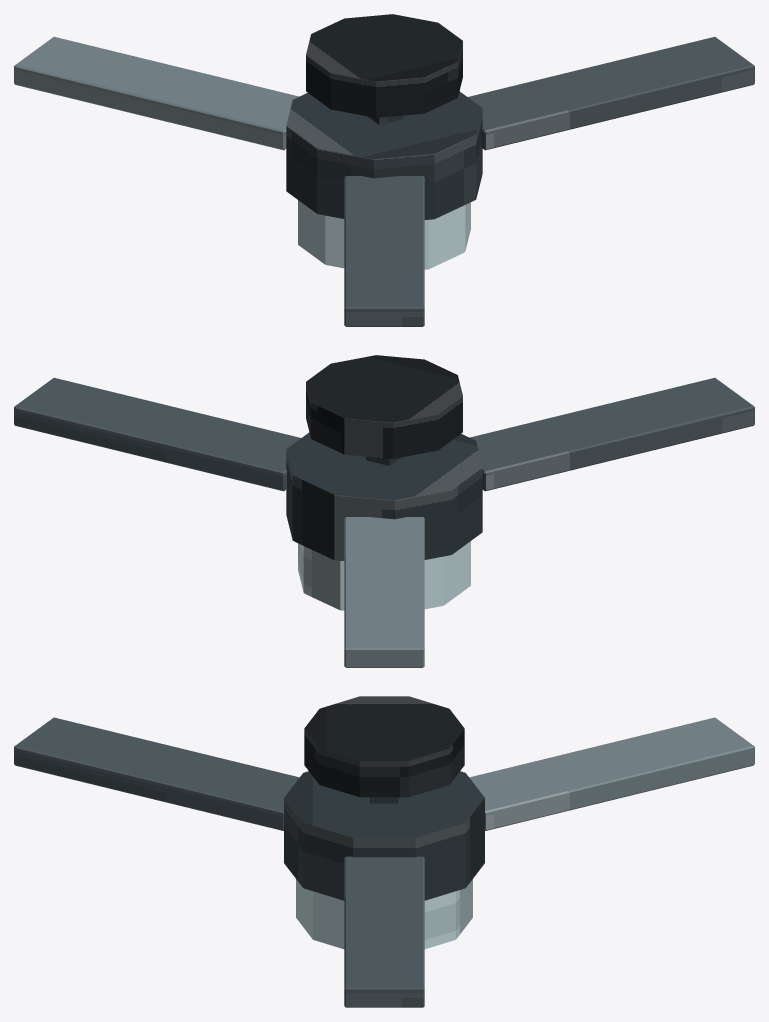
File: ceiling_fan_charcoal.glb
3 renders of one model, top to bottom at view 1: azimuth 30°, elevation 25°; view 2: azimuth 150°, elevation 25°; view 3: azimuth 270°, elevation 25°, orthographic.
Parts seen in each view (by area): view 1: FanMotor, FanBlade_2, FanBlade_1, CeilingCanopy, FanBlade_3, FanLight; view 2: FanMotor, FanBlade_3, FanBlade_1, CeilingCanopy, FanBlade_2, FanLight; view 3: FanMotor, FanBlade_2, FanBlade_3, CeilingCanopy, FanBlade_1, FanLight.
Boxes of the visible parts, left/top/right/bottom form: FanMotor: left=286, top=91, right=482, bottom=219; FanBlade_2: left=14, top=36, right=298, bottom=150; FanBlade_1: left=468, top=36, right=754, bottom=150; CeilingCanopy: left=306, top=14, right=462, bottom=117; FanBlade_3: left=344, top=176, right=424, bottom=326; FanLight: left=298, top=200, right=470, bottom=269; FanMotor: left=286, top=432, right=482, bottom=560; FanBlade_3: left=470, top=377, right=754, bottom=491; FanBlade_1: left=14, top=377, right=300, bottom=491; CeilingCanopy: left=306, top=355, right=462, bottom=458; FanBlade_2: left=344, top=517, right=424, bottom=667; FanLight: left=298, top=541, right=470, bottom=610; FanMotor: left=284, top=771, right=484, bottom=900; FanBlade_2: left=469, top=717, right=754, bottom=830; FanBlade_3: left=14, top=717, right=299, bottom=830; CeilingCanopy: left=304, top=696, right=464, bottom=797; FanBlade_1: left=344, top=856, right=424, bottom=1007; FanLight: left=296, top=879, right=472, bottom=949.
Bounding box in the file's own units: 1.6 × 0.52 × 1.85.
1 material, 1 textured.
